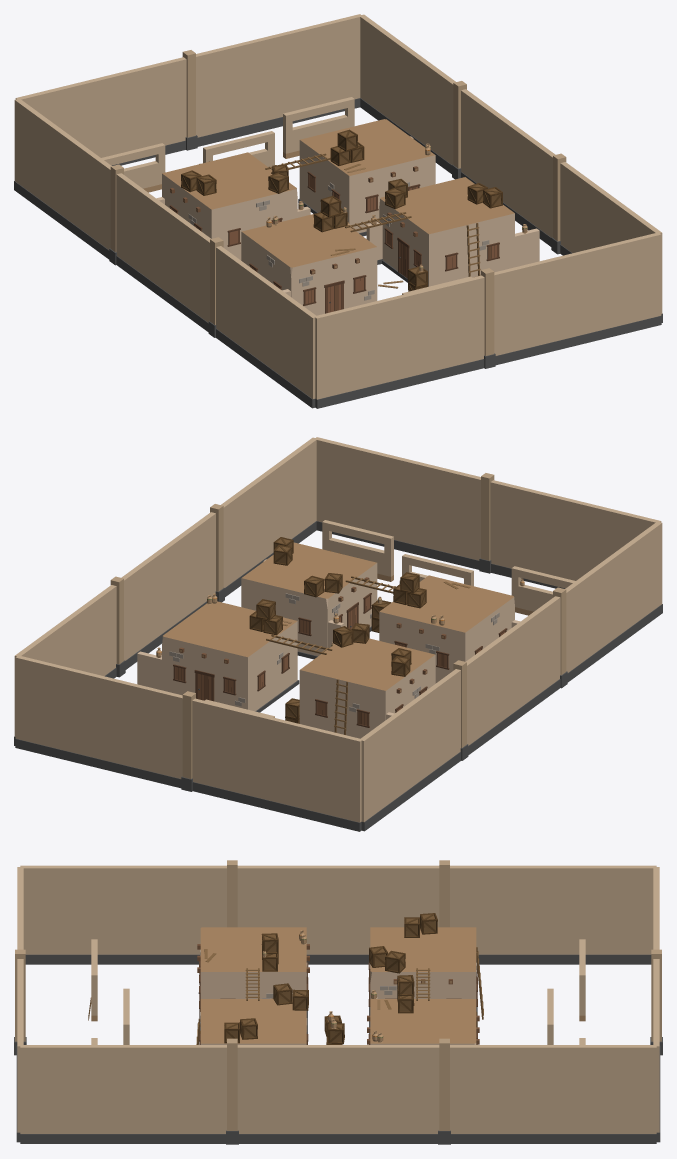
Rendered from Stage.glb.
3 renders of one model, top to bottom at view 1: azimuth 30°, elevation 25°; view 2: azimuth 150°, elevation 25°; view 3: azimuth 270°, elevation 25°, orthographic. The views are drawn at different scales.
Parts seen in each view (by area): view 1: SM_Wall_14, SM_Wall_13, SM_Wall_03, SM_Wall_12, SM_Building_01, SM_Wall_15, SM_Building_2, SM_Wall_17, SM_Wall_16, SM_Building_3, SM_Wall_20, SM_Wall_19 (+12 smaller); view 2: SM_Wall_12, SM_Wall_03, SM_Wall_13, SM_Building_3, SM_Wall_14, SM_Wall_17, SM_Wall_15, SM_Building_4, SM_Wall_16, SM_Wall_18, SM_Building_01, SM_Wall_19 (+12 smaller); view 3: SM_Wall_18, SM_Wall_20, SM_Wall_19, SM_Wall_17, SM_Wall_15, SM_Wall_16, SM_Building_2, SM_Building_4, SM_Building_3, SM_Building_01, SM_WallPart_3, SM_WallPart_4 (+10 smaller).
Part boxes in pixels (bbox=[...]): SM_Wall_14: bbox=[314, 275, 484, 408]; SM_Wall_13: bbox=[494, 232, 661, 365]; SM_Wall_03: bbox=[196, 14, 362, 146]; SM_Wall_12: bbox=[15, 57, 186, 165]; SM_Building_01: bbox=[379, 177, 514, 286]; SM_Wall_15: bbox=[216, 246, 316, 408]; SM_Building_2: bbox=[241, 214, 377, 315]; SM_Wall_17: bbox=[14, 99, 111, 259]; SM_Wall_16: bbox=[116, 173, 210, 332]; SM_Building_3: bbox=[298, 119, 435, 236]; SM_Wall_20: bbox=[360, 14, 455, 173]; SM_Wall_19: bbox=[461, 89, 555, 246]; SM_Wall_12: bbox=[192, 698, 362, 831]; SM_Wall_03: bbox=[15, 656, 182, 788]; SM_Wall_13: bbox=[314, 437, 480, 569]; SM_Building_3: bbox=[162, 601, 299, 712]; SM_Wall_14: bbox=[490, 480, 661, 588]; SM_Wall_17: bbox=[359, 669, 460, 831]; SM_Wall_15: bbox=[565, 522, 662, 682]; SM_Building_4: bbox=[299, 638, 435, 738]; SM_Wall_16: bbox=[466, 596, 560, 755]; SM_Wall_18: bbox=[221, 437, 316, 596]; SM_Building_01: bbox=[241, 542, 377, 659]; SM_Wall_19: bbox=[121, 512, 215, 669]; SM_Wall_18: bbox=[20, 1045, 226, 1143]; SM_Wall_20: bbox=[450, 1045, 656, 1143]; SM_Wall_19: bbox=[237, 1045, 439, 1143]; SM_Wall_17: bbox=[450, 865, 656, 964]; SM_Wall_15: bbox=[20, 865, 226, 964]; SM_Wall_16: bbox=[237, 865, 439, 964]; SM_Building_2: bbox=[197, 927, 309, 1033]; SM_Building_4: bbox=[368, 927, 477, 1033]; SM_Building_3: bbox=[367, 999, 479, 1044]; SM_Building_01: bbox=[199, 999, 308, 1044]; SM_WallPart_3: bbox=[226, 1038, 238, 1144]; SM_WallPart_4: bbox=[438, 1038, 450, 1144].
Size of what is drawn, in the model's own units: 20.51 by 5.27 by 30.6.
1 material, 1 textured.
